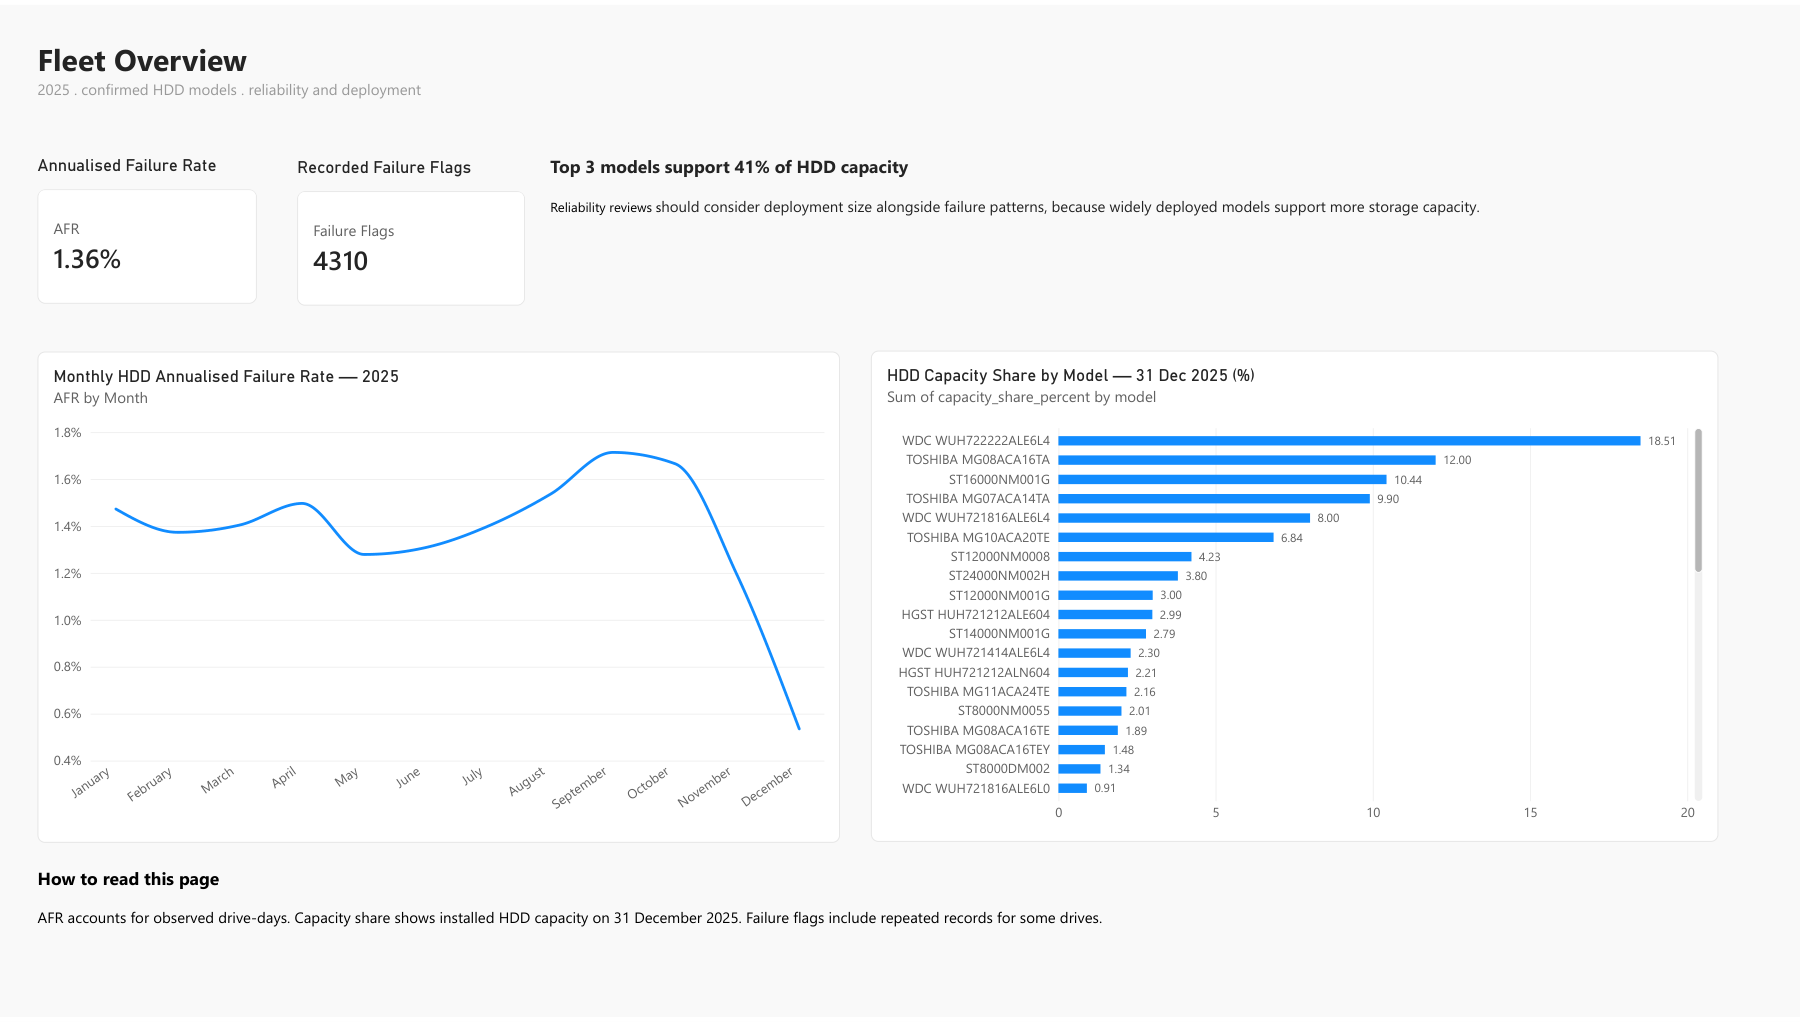

The page's visual inventory and layout, read from the dashboard file:
{"tool":"powerbi","page":{"name":"Fleet Overview","canvas":[1920,1080],"ordinal":0},"visuals":[{"type":"cardVisual","title":"Recorded Failure Flags","fields":{"Data":["daily_model_summary.Failure Flags"]},"box":[316.5,162.1,243.1,158.6],"z":0},{"type":"cardVisual","title":"Annualised Failure Rate","fields":{"Data":["daily_model_summary.AFR"]},"box":[40,160.2,234.5,158.6],"z":1000},{"type":"lineChart","title":"Monthly HDD Annualised Failure Rate — 2025","fields":{"Category":["daily_model_summary.date.Variation.Date Hierarchy.Month"],"Y":["daily_model_summary.AFR"]},"box":[40,369.9,856.1,524.3],"z":2000},{"type":"clusteredBarChart","title":"HDD Capacity Share by Model — 31 Dec 2025 (%)","fields":{"Category":["review_with_additional_evidence.model"],"Y":["Sum(review_with_additional_evidence.capacity_share_percent)"]},"box":[928.6,369.4,903.8,524.3],"z":3000},{"type":"textbox","box":[40,36.2,429,85.8],"z":4000},{"type":"textbox","box":[587.2,160.2,1155.4,160.2],"z":5000},{"type":"textbox","box":[40.3,918.6,1791.4,161.4],"z":6000}]}

Visuals, with their boxes in screenshot pixels (x1, y1, x2, y2), scaled from the page's 1920x1080 canvas onto the 1800x1022 screenshot:
"Recorded Failure Flags" cardVisual: BBox(297, 153, 525, 303)
"Annualised Failure Rate" cardVisual: BBox(38, 152, 257, 302)
"Monthly HDD Annualised Failure Rate — 2025" lineChart: BBox(38, 350, 840, 846)
"HDD Capacity Share by Model — 31 Dec 2025 (%)" clusteredBarChart: BBox(871, 350, 1718, 846)
textbox: BBox(38, 34, 440, 115)
textbox: BBox(550, 152, 1634, 303)
textbox: BBox(38, 869, 1717, 1021)
